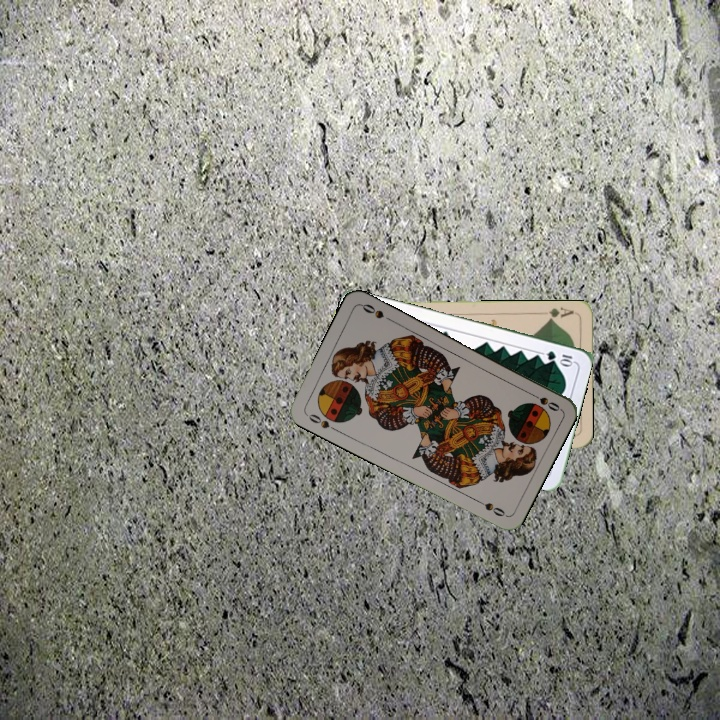G10: (542, 347, 576, 368)
GA: (544, 304, 576, 323)
SO: (525, 388, 563, 414), (302, 409, 340, 434)
